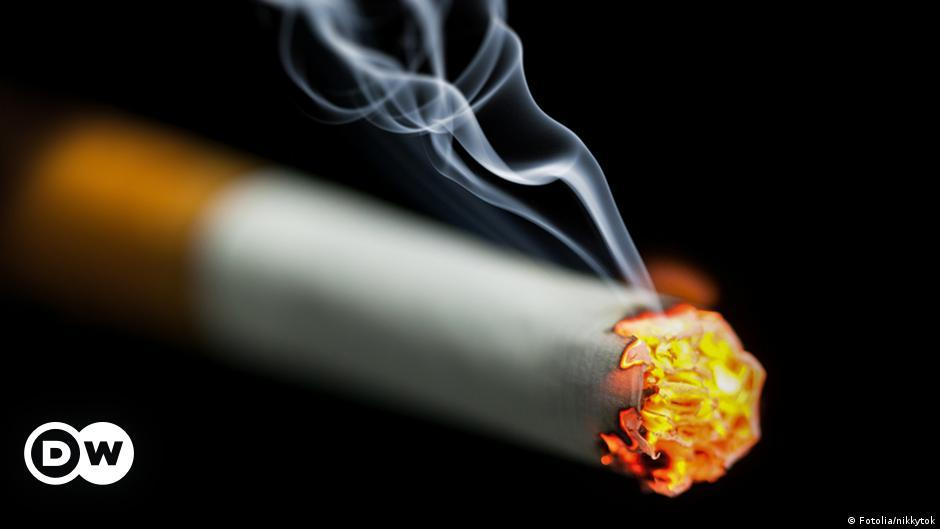Fire: (613, 295, 773, 502)
